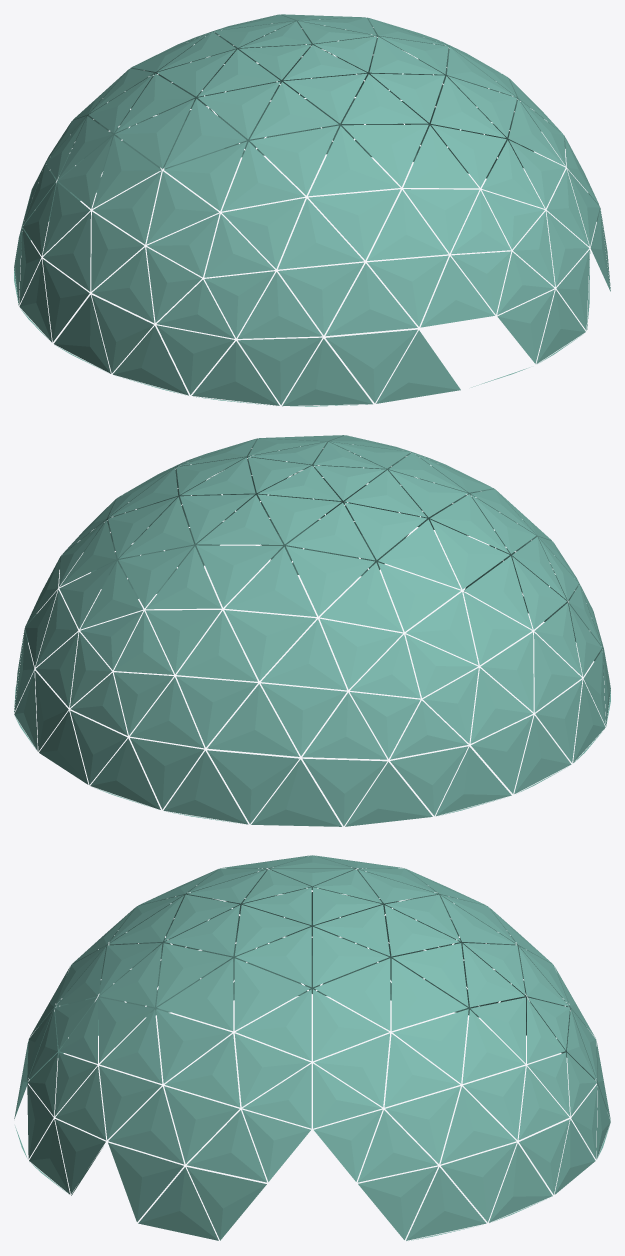
The model's file is SM_MP_Dome_Glazing.fbx.
The picture shows the model from 3 angles, top to bottom: view 1: azimuth 30°, elevation 25°; view 2: azimuth 150°, elevation 25°; view 3: azimuth 270°, elevation 25°; orthographic projection.
Visible parts, largest first — view 1: SM_MP_Dome_Glazing; view 2: SM_MP_Dome_Glazing; view 3: SM_MP_Dome_Glazing.
Boxes of the visible parts, x1,y1,x2,y2 form: SM_MP_Dome_Glazing: [14, 14, 610, 406]; SM_MP_Dome_Glazing: [14, 435, 610, 826]; SM_MP_Dome_Glazing: [14, 855, 610, 1240].
Size of the model in its own units: 3715 by 3797 by 1649.
1 material, 1 textured.
